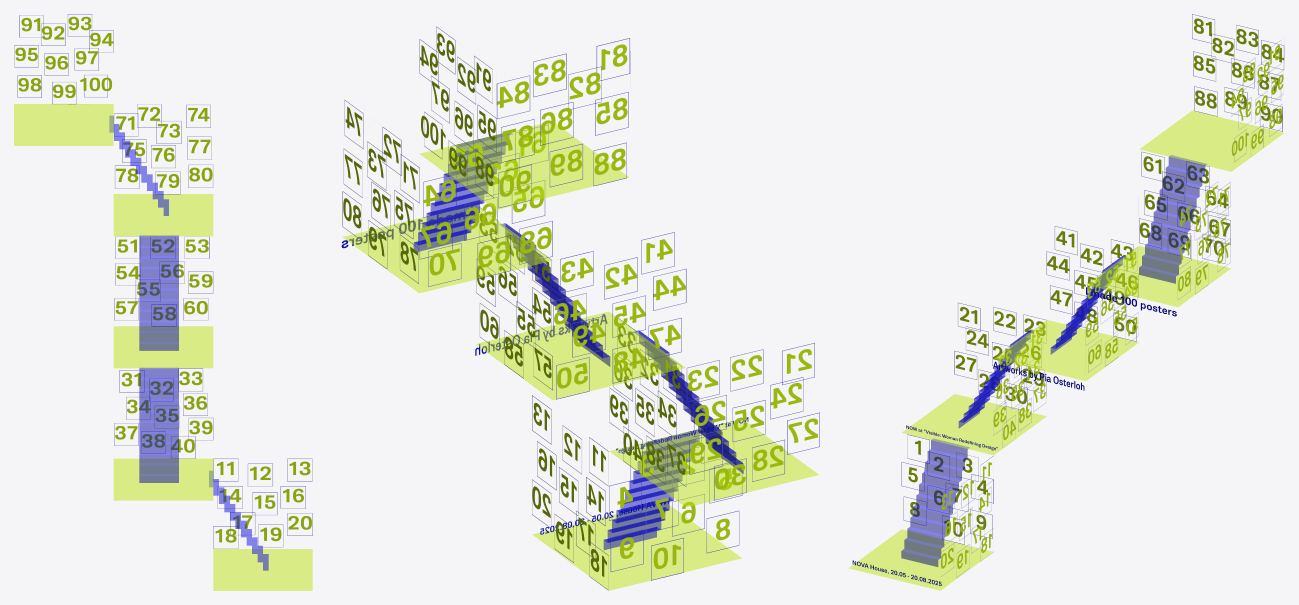
The model's file is 100_posters.glb.
3 views of the same model, side by side, from view 1: azimuth 30°, elevation 25°; view 2: azimuth 150°, elevation 25°; view 3: azimuth 270°, elevation 25° (orthographic). The views are drawn at different scales.
Parts seen in each view (by area): view 1: staircase 3, staircase 2, floor 3, floor 2, floor 1, floor 0, floor 4, 90-100, 51-60, 71-80, 11-20, 31-40 (+2 smaller); view 2: floor 4, floor 0, floor 2, floor 1, floor 3, 81-90, 21-30, 41-50, 61-70, staircase 1, staircase 4, 90-100 (+7 smaller); view 3: staircase 4, floor 3, floor 4, staircase 1, floor 0, floor 2, floor 1, 81-90, 61-70, 41-50, 21-30, 90-100 (+7 smaller).
Boxes of the visible parts, bbox=[...] form: staircase 3: bbox=[139, 235, 178, 350]; staircase 2: bbox=[139, 368, 178, 482]; floor 3: bbox=[113, 194, 213, 236]; floor 2: bbox=[113, 326, 213, 368]; floor 1: bbox=[113, 458, 213, 500]; floor 0: bbox=[213, 549, 312, 590]; floor 4: bbox=[14, 104, 113, 145]; 90-100: bbox=[14, 14, 113, 104]; 51-60: bbox=[114, 236, 213, 326]; 71-80: bbox=[114, 104, 213, 194]; 11-20: bbox=[213, 458, 312, 548]; 31-40: bbox=[114, 368, 213, 458]; floor 4: bbox=[420, 123, 628, 209]; floor 0: bbox=[532, 503, 741, 590]; floor 2: bbox=[476, 311, 685, 399]; floor 1: bbox=[609, 420, 818, 507]; floor 3: bbox=[343, 205, 552, 293]; 81-90: bbox=[496, 38, 630, 207]; 21-30: bbox=[686, 343, 819, 500]; 41-50: bbox=[553, 232, 686, 399]; 61-70: bbox=[419, 124, 552, 286]; staircase 1: bbox=[603, 429, 699, 549]; staircase 4: bbox=[413, 133, 511, 251]; 90-100: bbox=[419, 26, 496, 197]; staircase 4: bbox=[1139, 155, 1206, 283]; floor 3: bbox=[1086, 246, 1230, 306]; floor 4: bbox=[1140, 110, 1283, 171]; staircase 1: bbox=[901, 439, 968, 566]; floor 0: bbox=[849, 529, 992, 590]; floor 2: bbox=[994, 320, 1138, 380]; floor 1: bbox=[902, 394, 1046, 455]; 81-90: bbox=[1192, 14, 1284, 131]; 61-70: bbox=[1139, 152, 1230, 263]; 41-50: bbox=[1046, 226, 1138, 341]; 21-30: bbox=[954, 302, 1046, 411]; 90-100: bbox=[1231, 40, 1283, 161].
Size of the model in its own units: 2.41 by 5.05 by 4.14.
16 materials, 14 textured.
